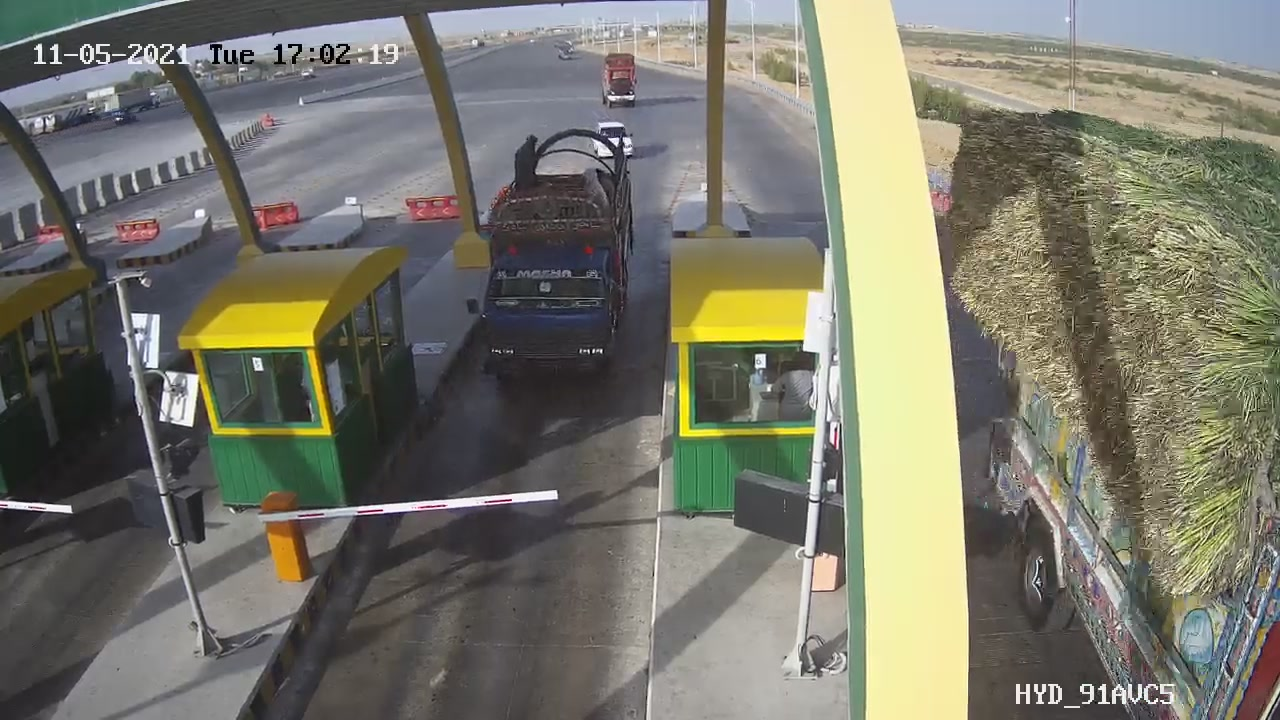F5: (455, 116, 660, 413)
